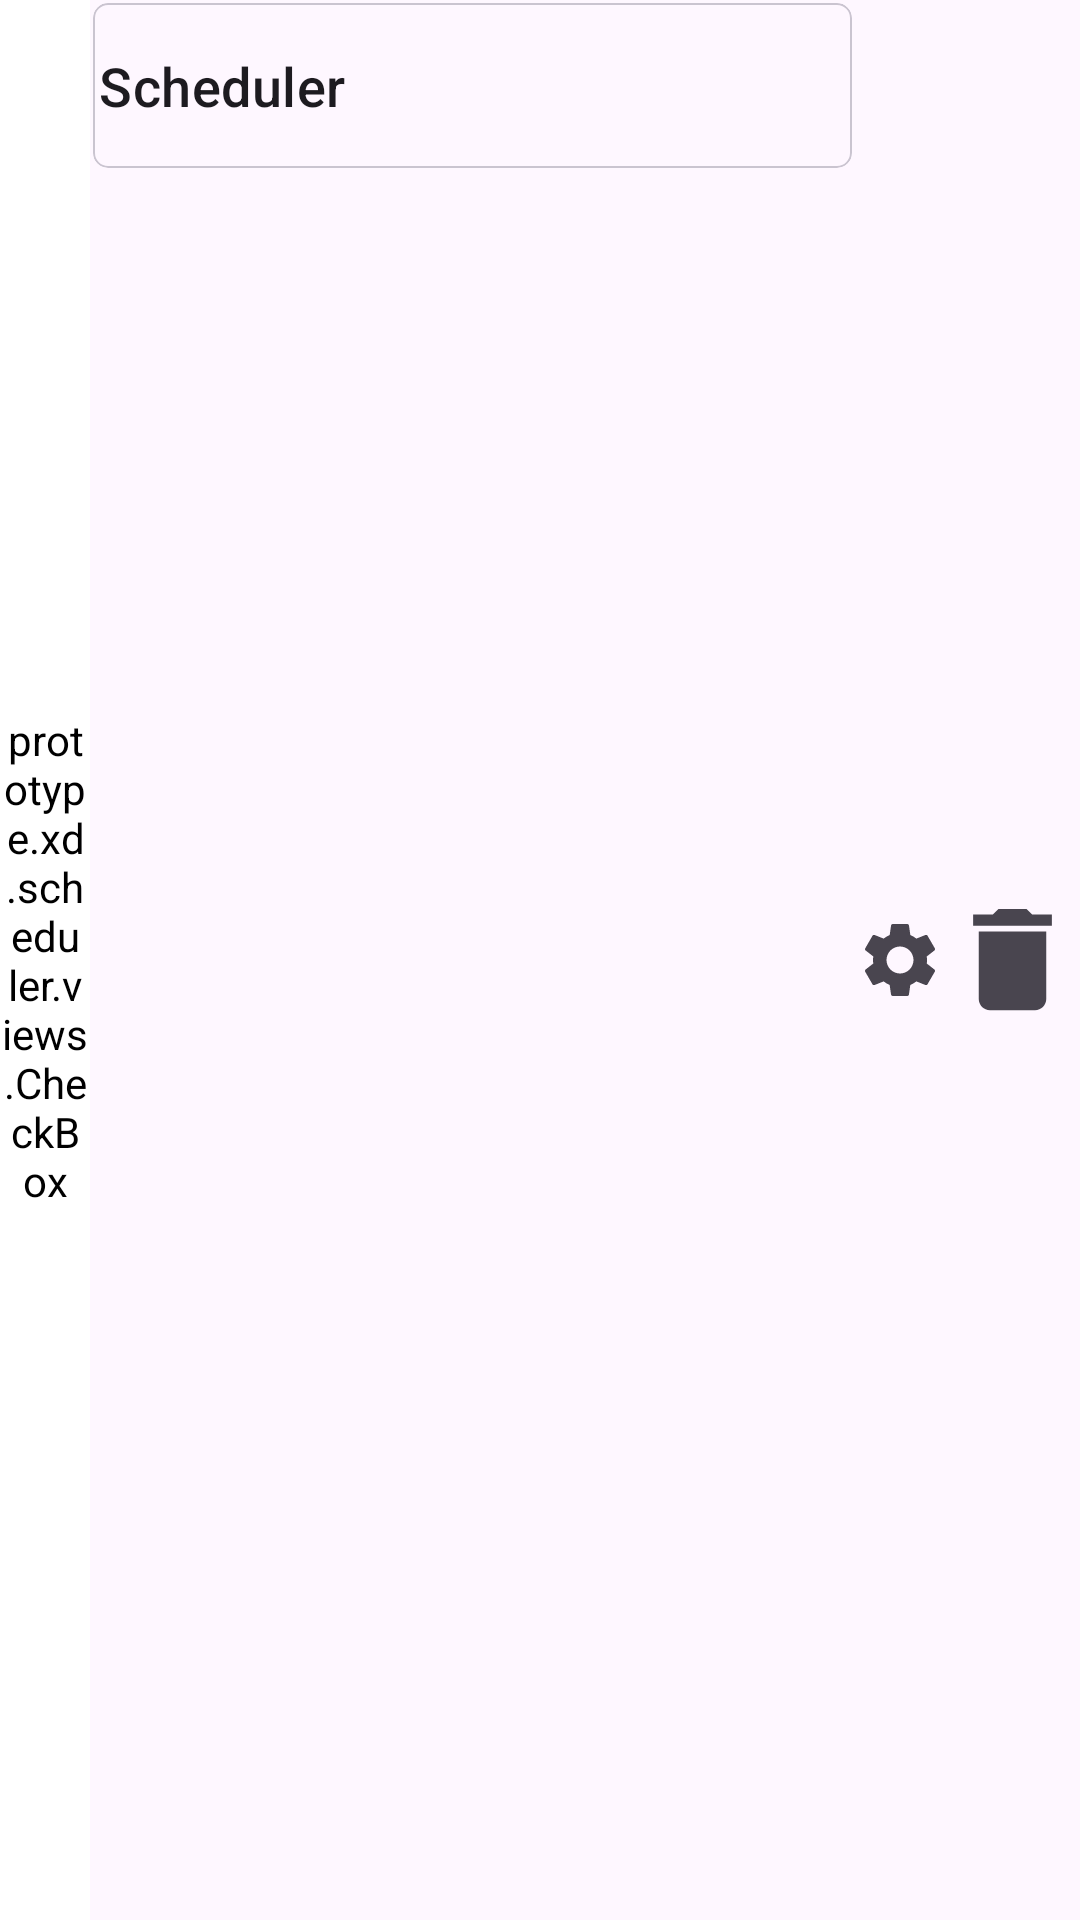

Icon bounding boxes for this 1080px x 1920px phone screenshot, format (x1, y1, x2, y2):
Delete item: (973, 909, 1052, 1011)
Settings: (865, 924, 935, 996)
